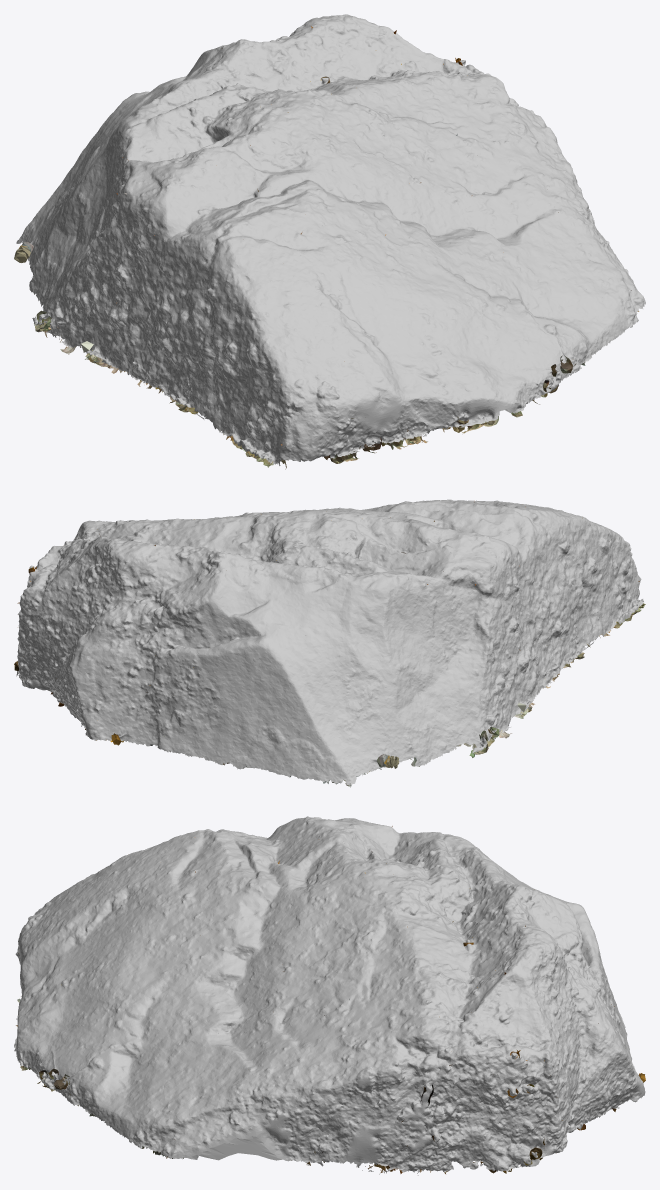
3 views of the same model, one above another, from view 1: azimuth 30°, elevation 25°; view 2: azimuth 150°, elevation 25°; view 3: azimuth 270°, elevation 25° (orthographic). The views are drawn at different scales.
Parts seen in each view (by area): view 1: model.001, model; view 2: model.001, model; view 3: model.001, model.
Boxes of the visible parts, <box> form: model.001: <box>16,14,645,465</box>; model: <box>14,26,639,469</box>; model.001: <box>16,499,643,785</box>; model: <box>14,514,645,787</box>; model.001: <box>14,816,645,1175</box>; model: <box>16,818,645,1173</box>.
Bounding box in the file's own units: 2.38 × 0.9186 × 2.8.
Materials: 3 (2 with a texture image).
